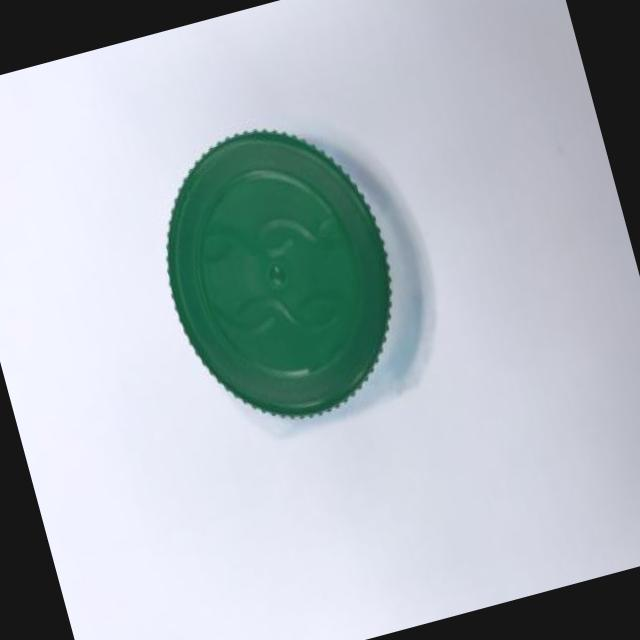Trash: (128, 93, 428, 448)
